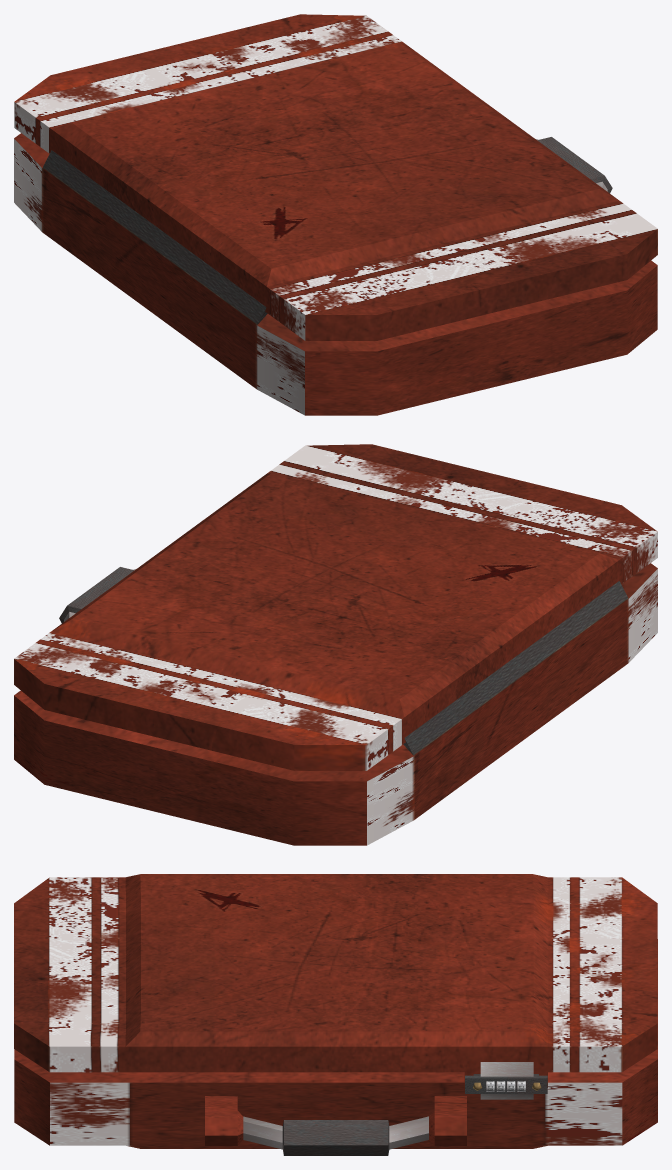
The model's file is Medical Kit.fbx.
The picture shows the model from 3 angles, top to bottom: view 1: azimuth 30°, elevation 25°; view 2: azimuth 150°, elevation 25°; view 3: azimuth 270°, elevation 25°; orthographic projection.
Visible parts, largest first — view 1: Medical_Kit_Top1, Medical_Kit_Bottom; view 2: Medical_Kit_Top1, Medical_Kit_Bottom; view 3: Medical_Kit_Top1, Medical_Kit_Bottom.
Boxes of the visible parts, x1=… form: Medical_Kit_Top1: x1=14, y1=14, x2=657, y2=340; Medical_Kit_Bottom: x1=14, y1=133, x2=657, y2=415; Medical_Kit_Top1: x1=14, y1=444, x2=657, y2=770; Medical_Kit_Bottom: x1=14, y1=563, x2=657, y2=845; Medical_Kit_Top1: x1=14, y1=874, x2=657, y2=1099; Medical_Kit_Bottom: x1=14, y1=939, x2=657, y2=1155.
Bounding box in the file's own units: 8.22 × 2.15 × 10.69.
